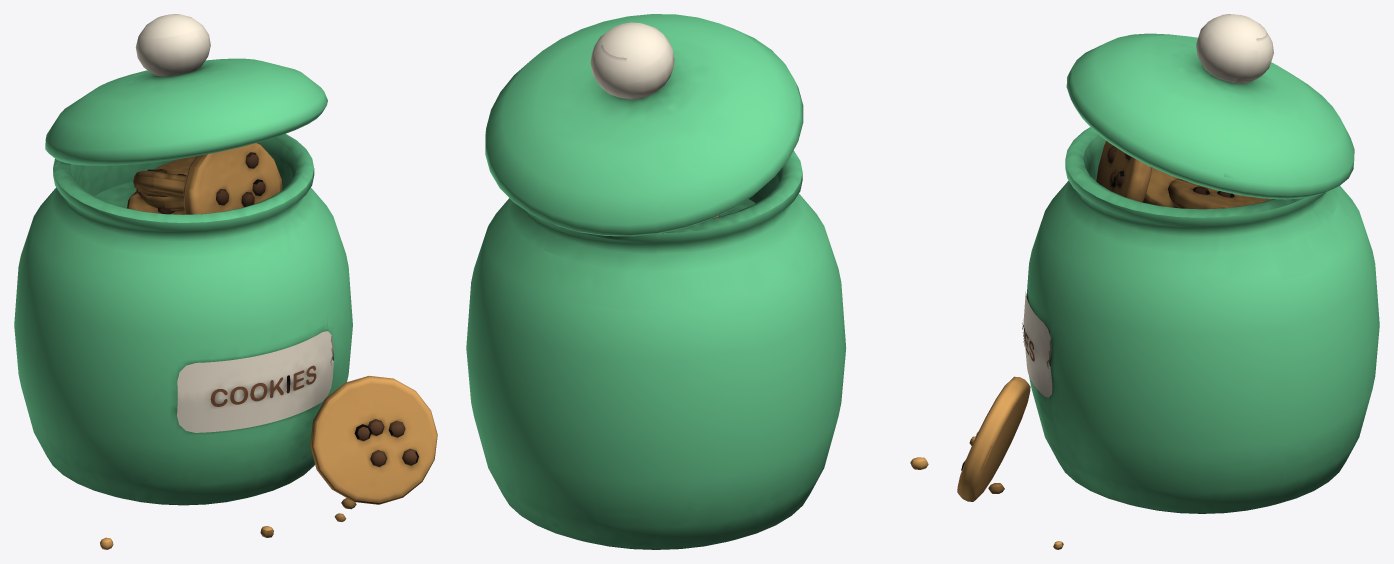
File: cookie_jar.glb
3 views of the same model, side by side, from view 1: azimuth 30°, elevation 25°; view 2: azimuth 150°, elevation 25°; view 3: azimuth 270°, elevation 25° (orthographic). The views are drawn at different scales.
Visible parts, largest first — view 1: cookie_jar; view 2: cookie_jar; view 3: cookie_jar.
Part boxes in pixels (bbox=[...]): cookie_jar: bbox=[14, 14, 437, 549]; cookie_jar: bbox=[466, 14, 928, 549]; cookie_jar: bbox=[957, 14, 1379, 549].
Bounding box in the file's own units: 0.1842 × 0.2166 × 0.1867.
5 materials, 5 textured.
